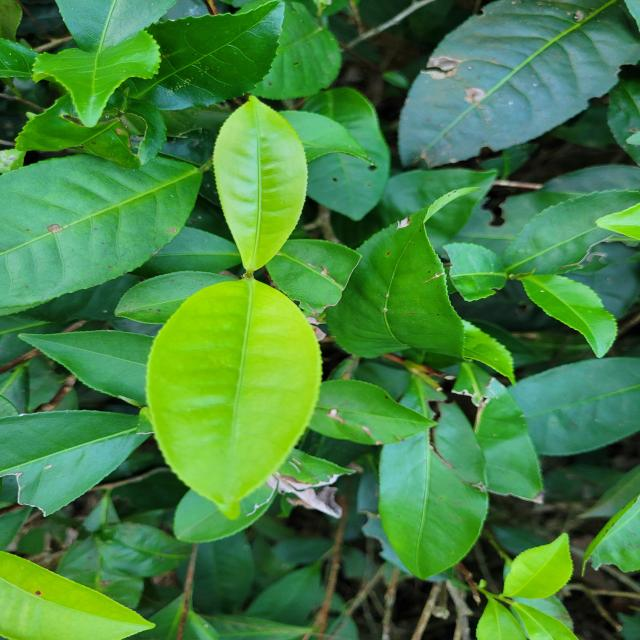Catagory A 1-2 days: (201, 96, 322, 280)
